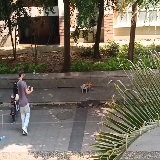fire: (86, 82, 91, 88)
